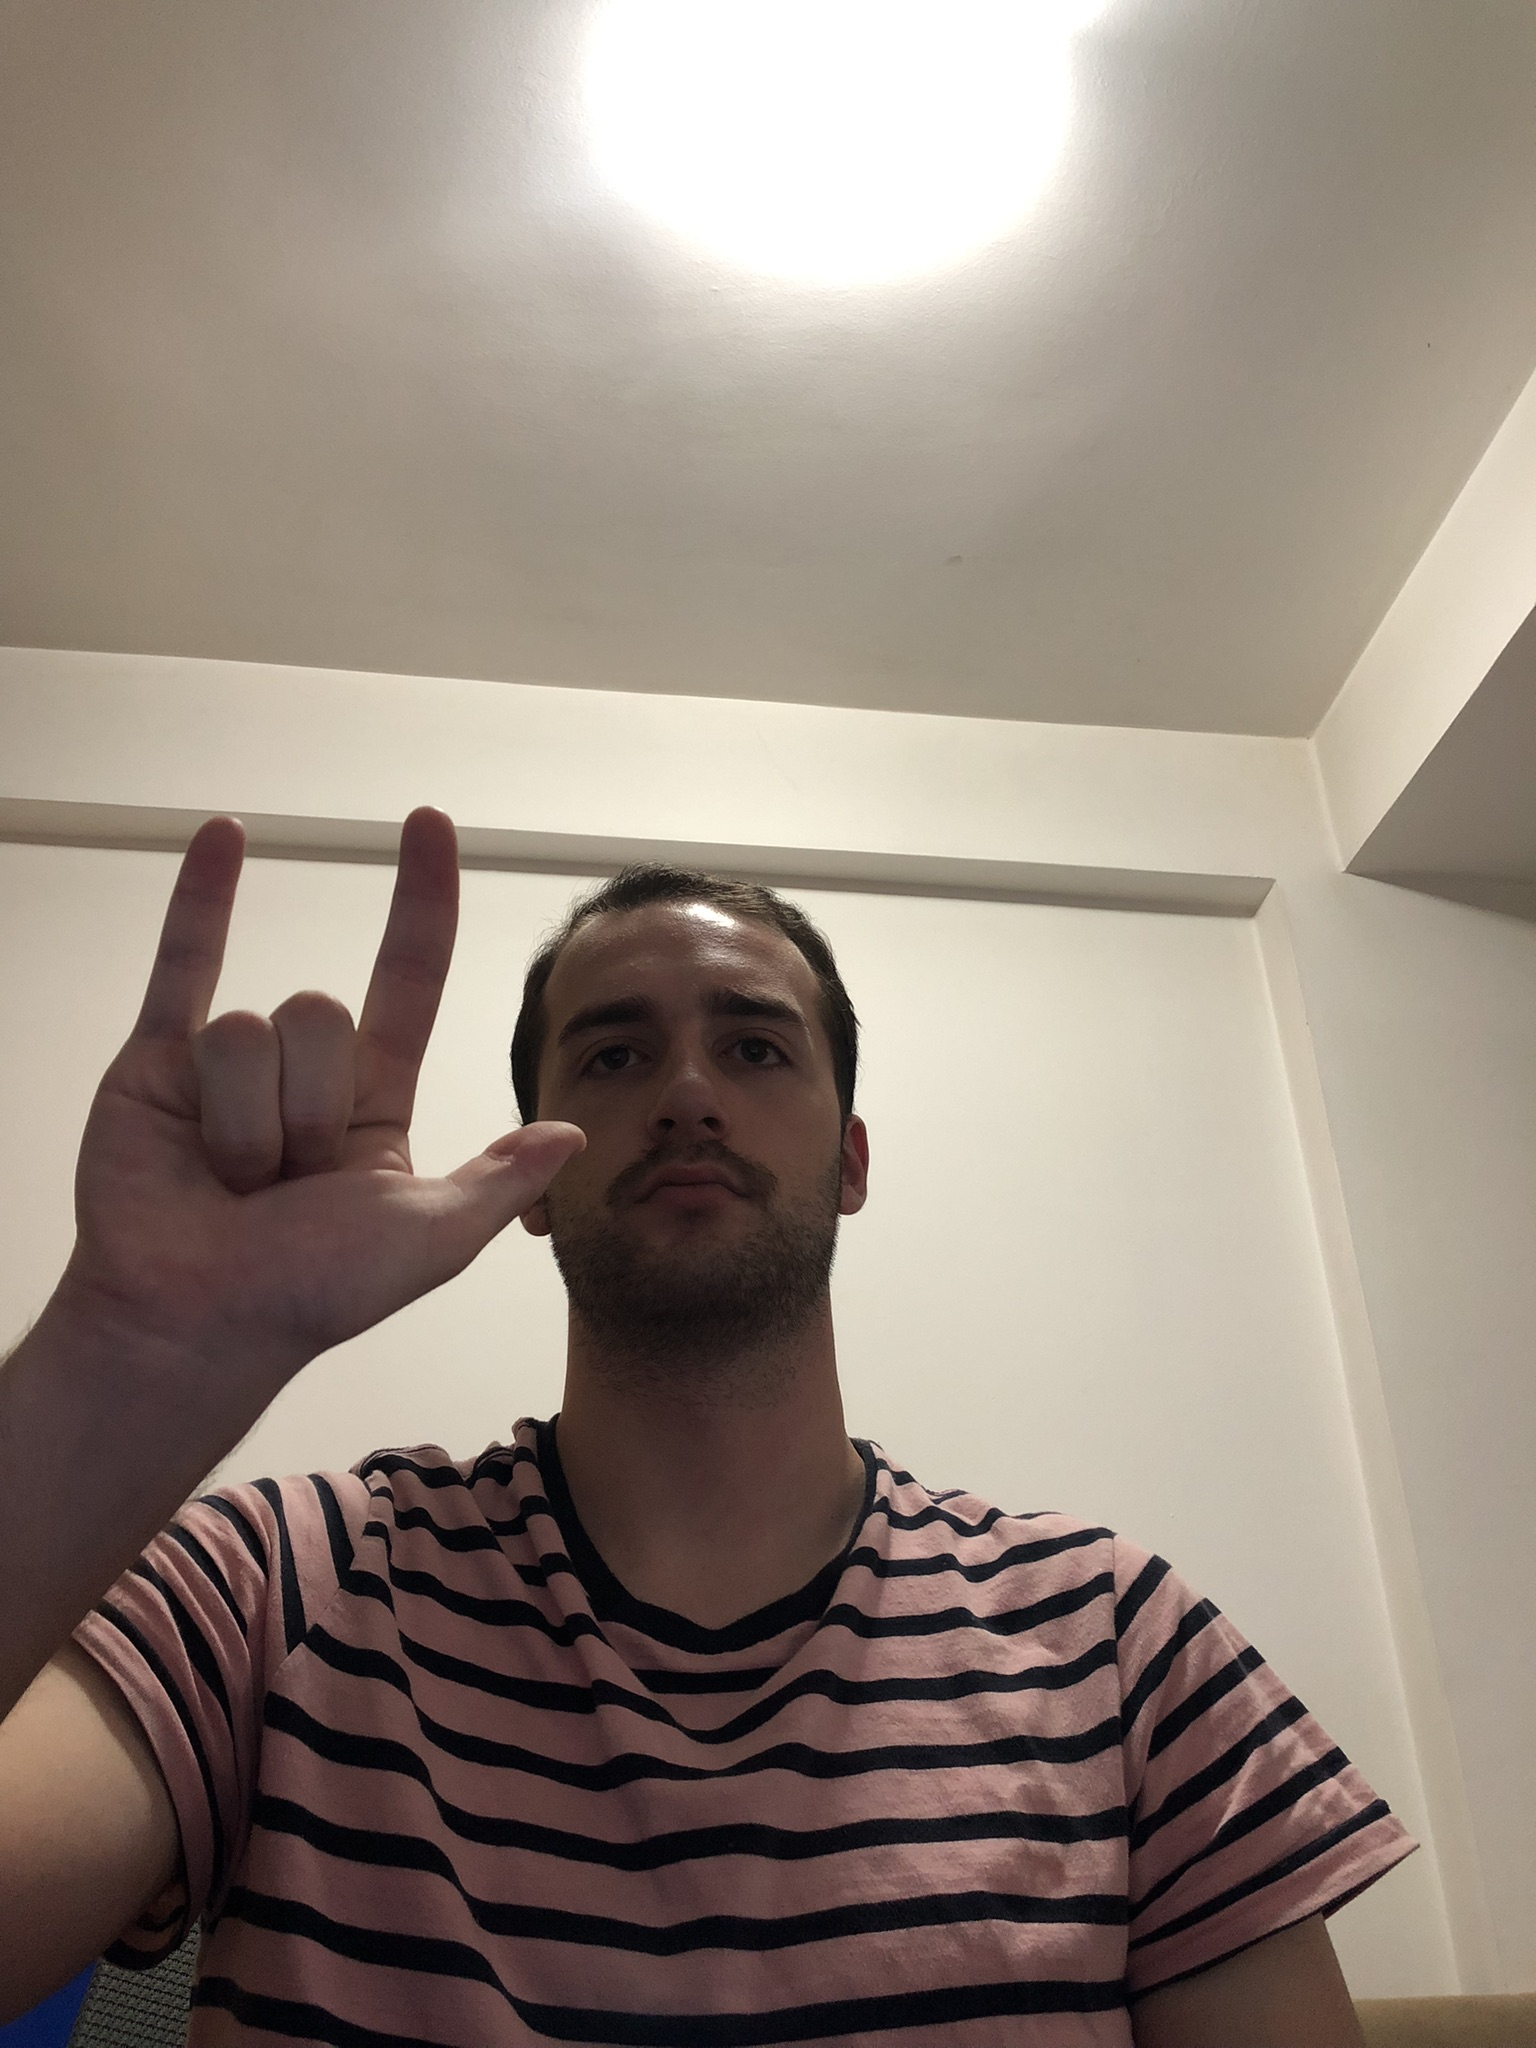I Love You: (61, 801, 595, 1409)
